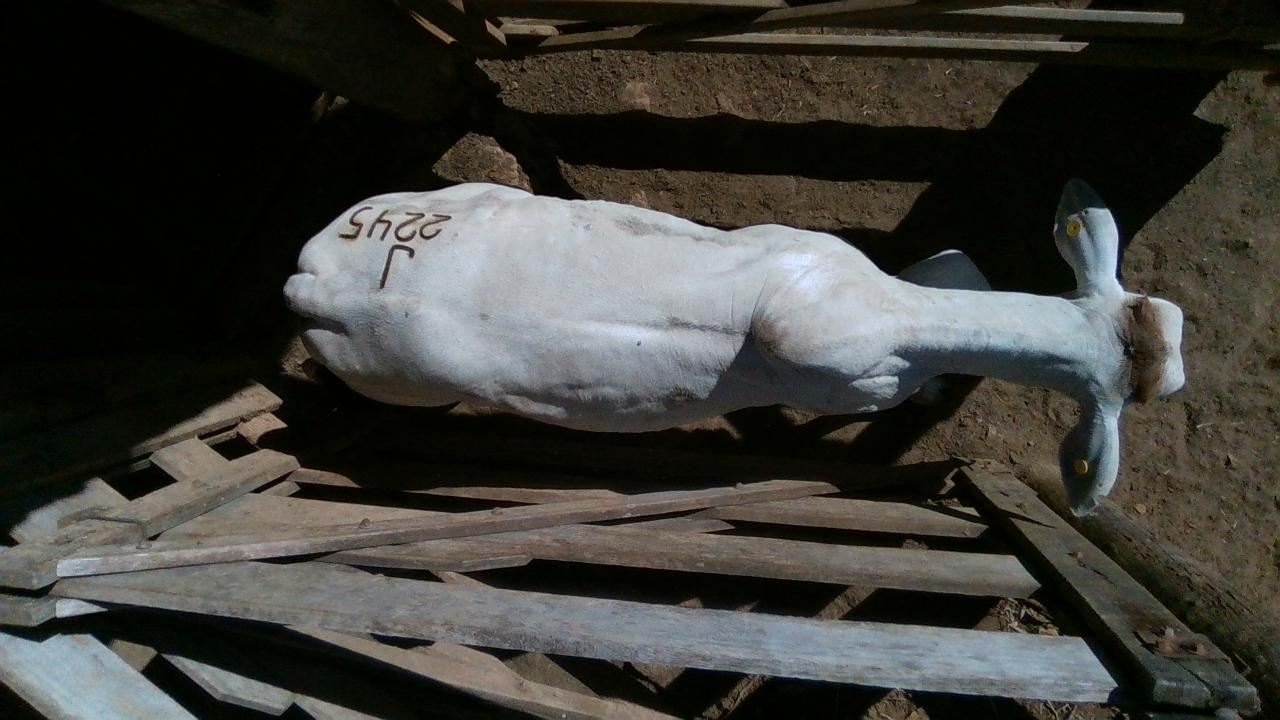cattle: (281, 176, 1187, 517)
